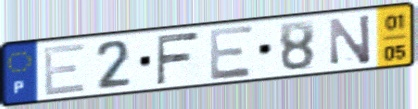2: (93, 39, 134, 91)
8: (277, 19, 318, 73)
E: (207, 22, 257, 82), (41, 40, 88, 98)
F: (153, 29, 202, 86)
N: (327, 12, 373, 68)
